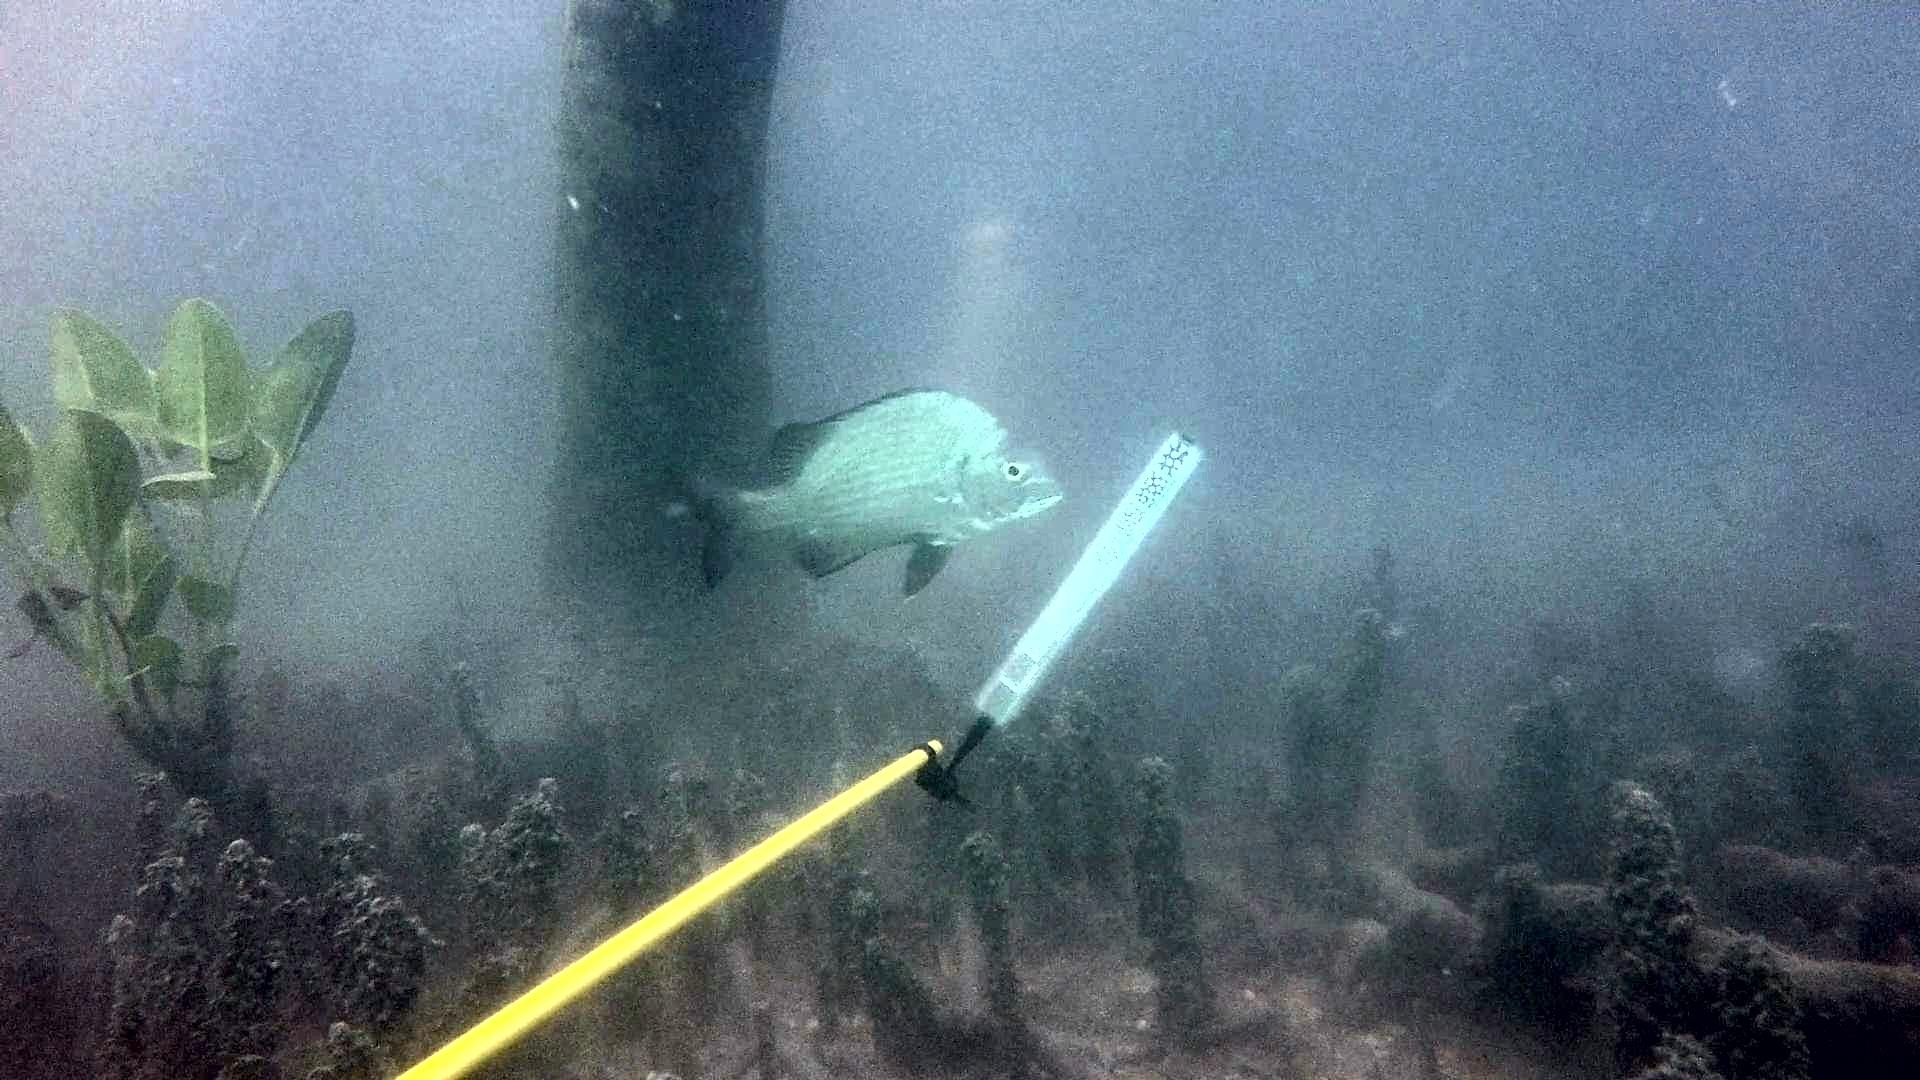acanthopagrus palmaris: (650, 375, 1075, 609)
